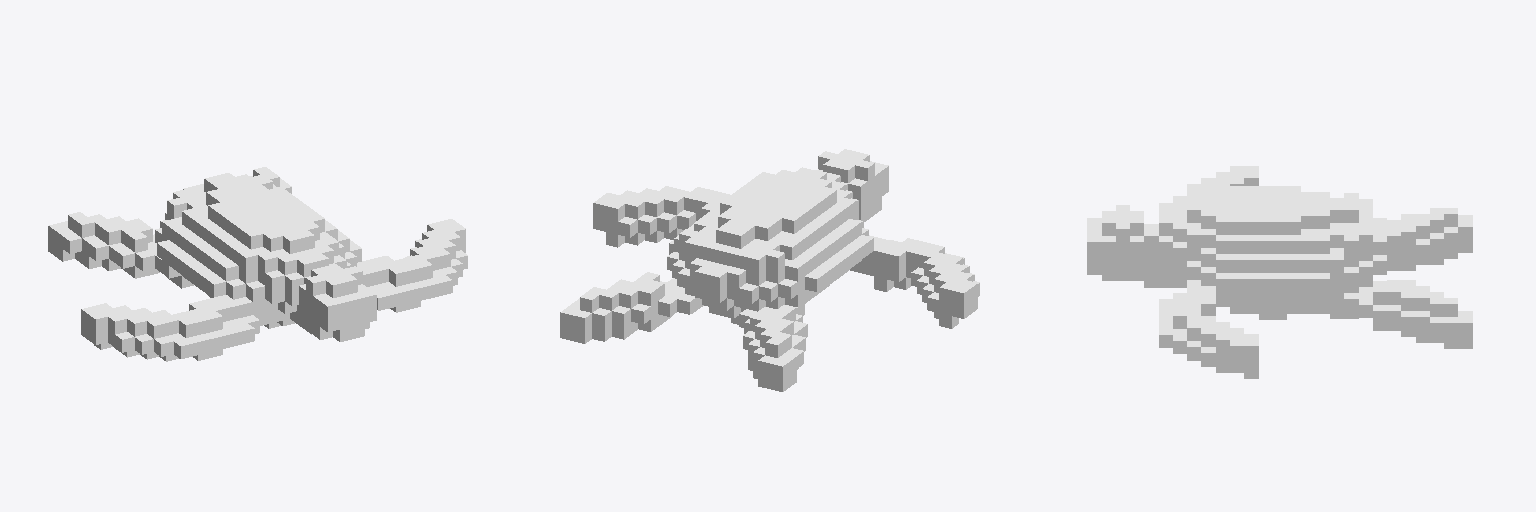
Rendered from tortu.obj.
3 views of the same model, side by side, from view 1: azimuth 30°, elevation 25°; view 2: azimuth 150°, elevation 25°; view 3: azimuth 270°, elevation 25° (orthographic).
Parts seen in each view (by area): view 1: object 1; view 2: object 1; view 3: object 1.
Part boxes in pixels (x1,y1,x2,y2): object 1: (48, 167, 467, 361); object 1: (560, 149, 979, 391); object 1: (1087, 166, 1472, 378).
Size of the model in its own units: 3 by 0.8 by 2.7.